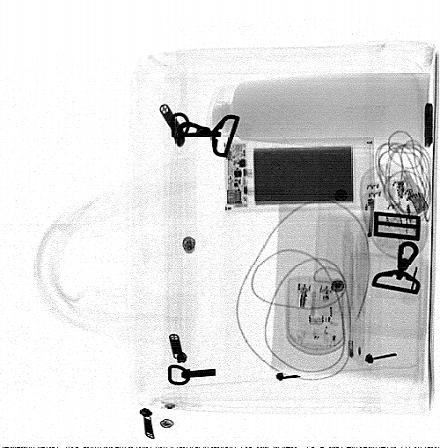Powerbank: (222, 136, 374, 214)
